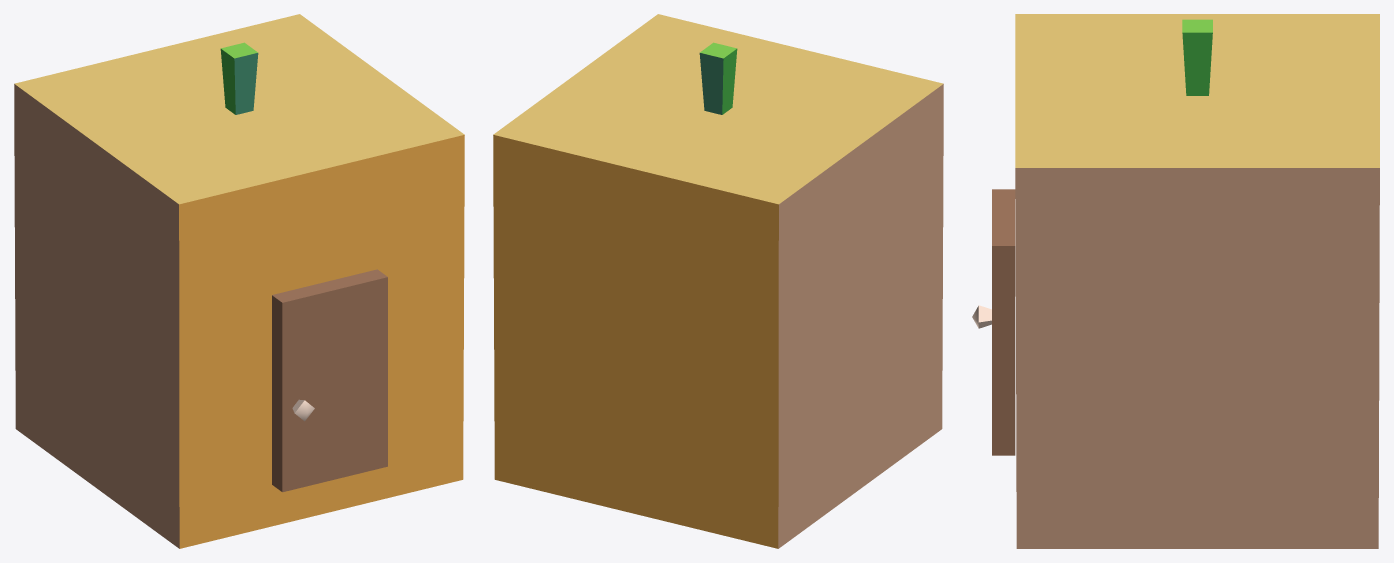
File: houseOrange.fbx
3 views of the same model, side by side, from view 1: azimuth 30°, elevation 25°; view 2: azimuth 150°, elevation 25°; view 3: azimuth 270°, elevation 25° (orthographic). The views are drawn at different scales.
Parts seen in each view (by area): view 1: body, door, stalk; view 2: body, stalk; view 3: body, door, stalk.
Boxes of the visible parts, x1,y1,x2,y2 form: body: (14, 14, 464, 548); door: (272, 269, 387, 492); stalk: (220, 42, 258, 114); body: (493, 14, 943, 548); stalk: (699, 42, 737, 114); body: (1015, 14, 1379, 548); door: (992, 189, 1015, 455); stalk: (1182, 19, 1212, 95).
Size of the model in its own units: 106 by 143 by 118.
Materials: 1 (1 with a texture image).
